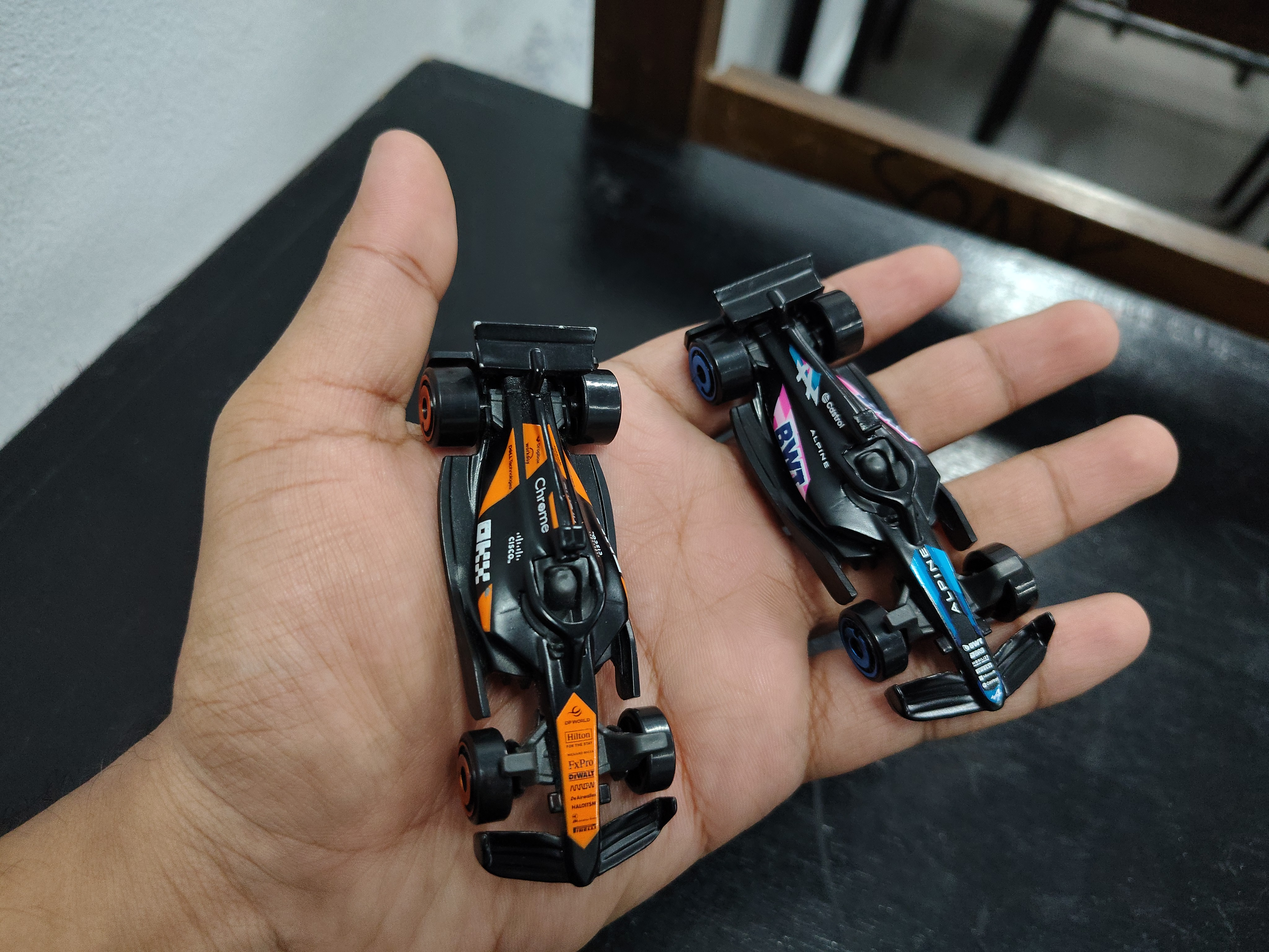Alpine A524: (658, 211, 1109, 736)
McLaren MCL40: (372, 276, 716, 879)
